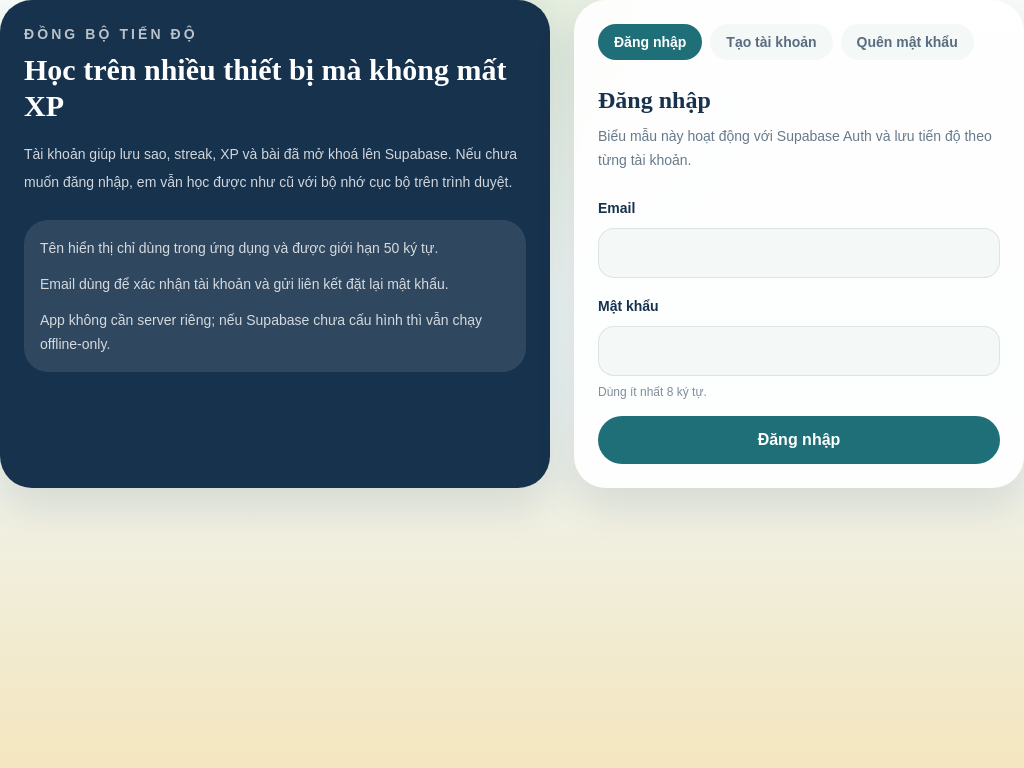
it: AuthRoute › hiển thị lỗi signIn cho người dùng
The image size is (1024, 768).
Step 1. Type "hoc.sinh@example.com" into the field labelled "Email" → (799, 253), box [598, 228, 1000, 278]
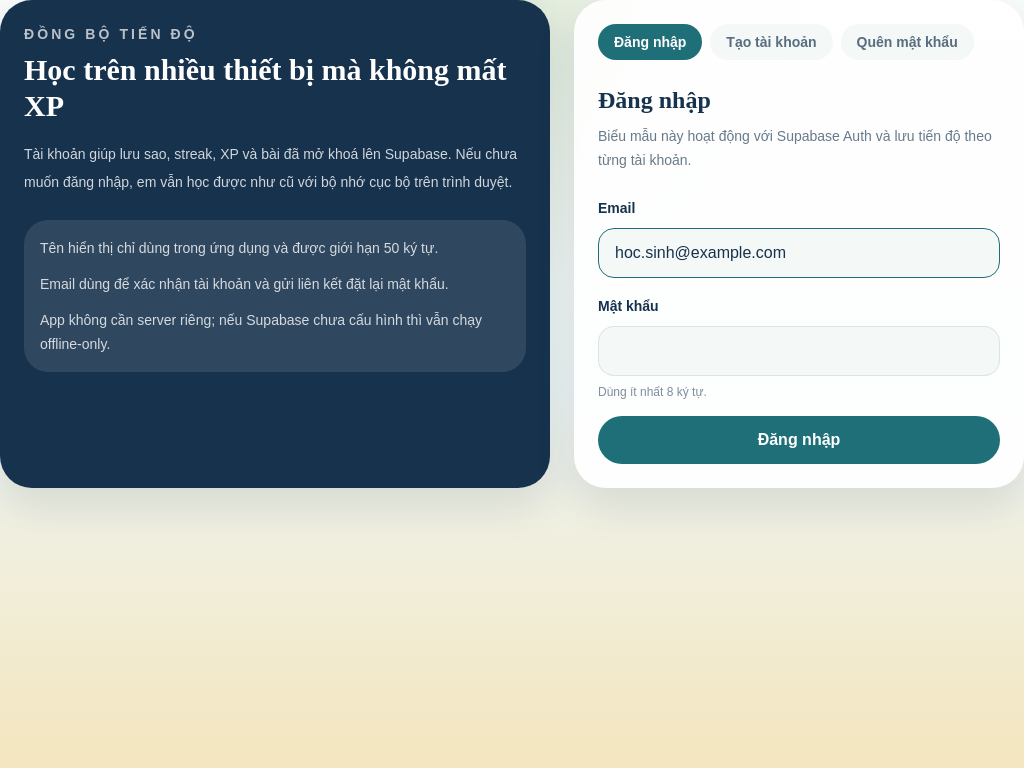
Step 2. Type "12345678" into the password field labelled "Mật khẩu Dùng ít nhất 8 ký tự." → (799, 351), box [598, 326, 1000, 376]
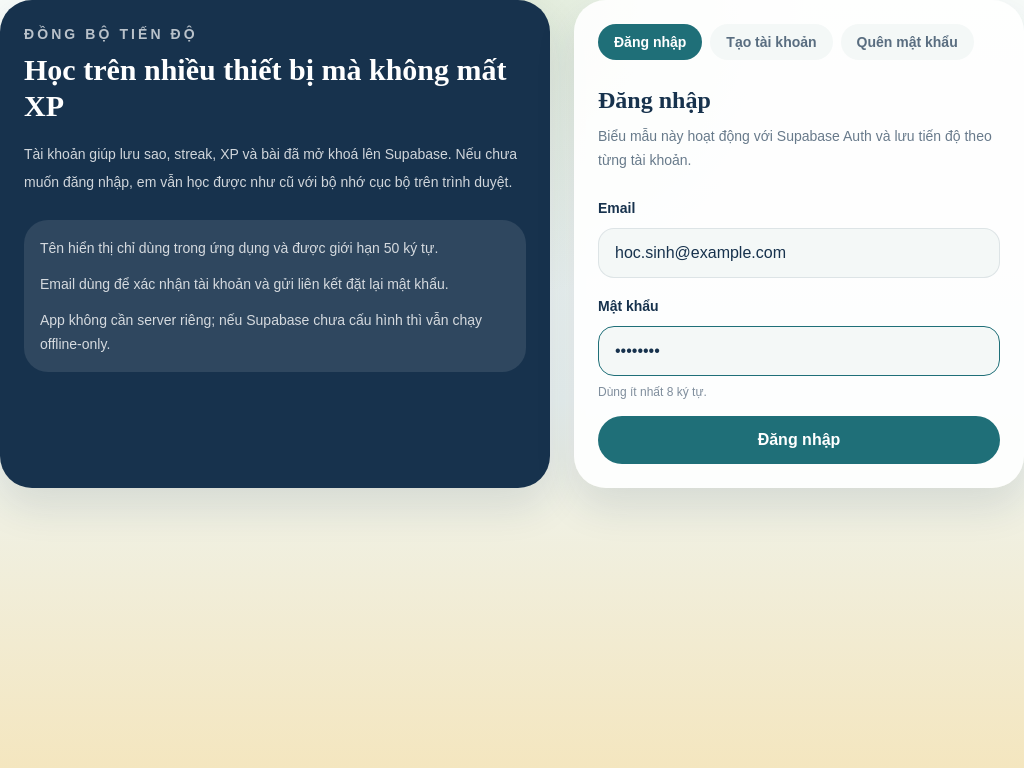
Step 3. Click the button "Đăng nhập" below "Dùng ít nhất 8 ký tự." → (799, 440), box [598, 416, 1000, 464]
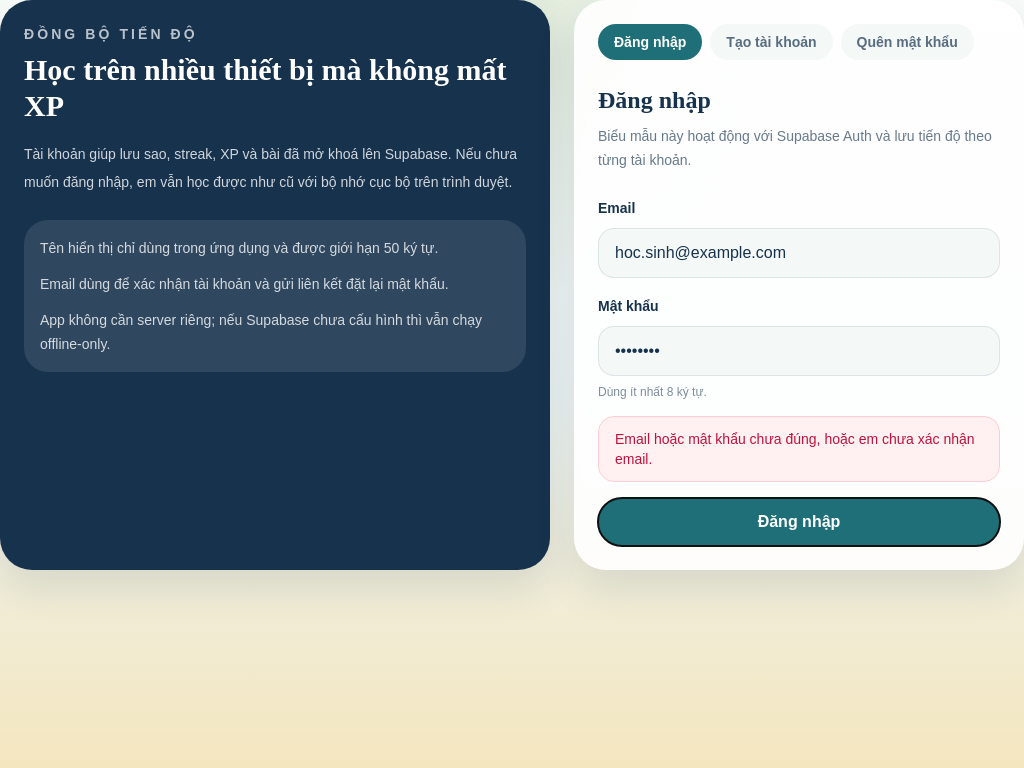
expect the text "Email hoặc mật khẩu chưa đúng, hoặc em chưa xác nhận email." is shown: met, box [598, 416, 1000, 482]
